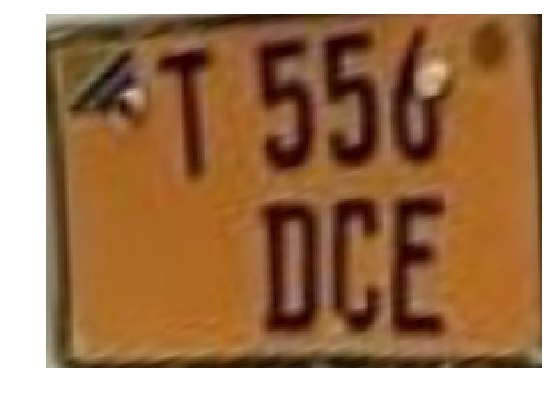T: (149, 41, 236, 193)
